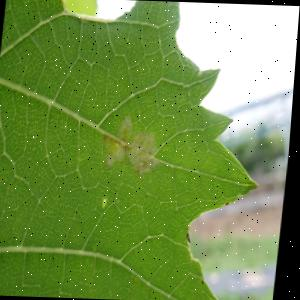Folha: (0, 0, 277, 300)
Fungo: (100, 112, 164, 176), (124, 128, 162, 176), (101, 114, 134, 167), (103, 195, 110, 208), (188, 230, 194, 242)
